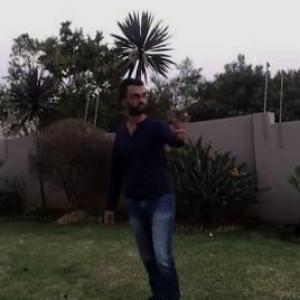takeoff-hand: (168, 102, 198, 142)
